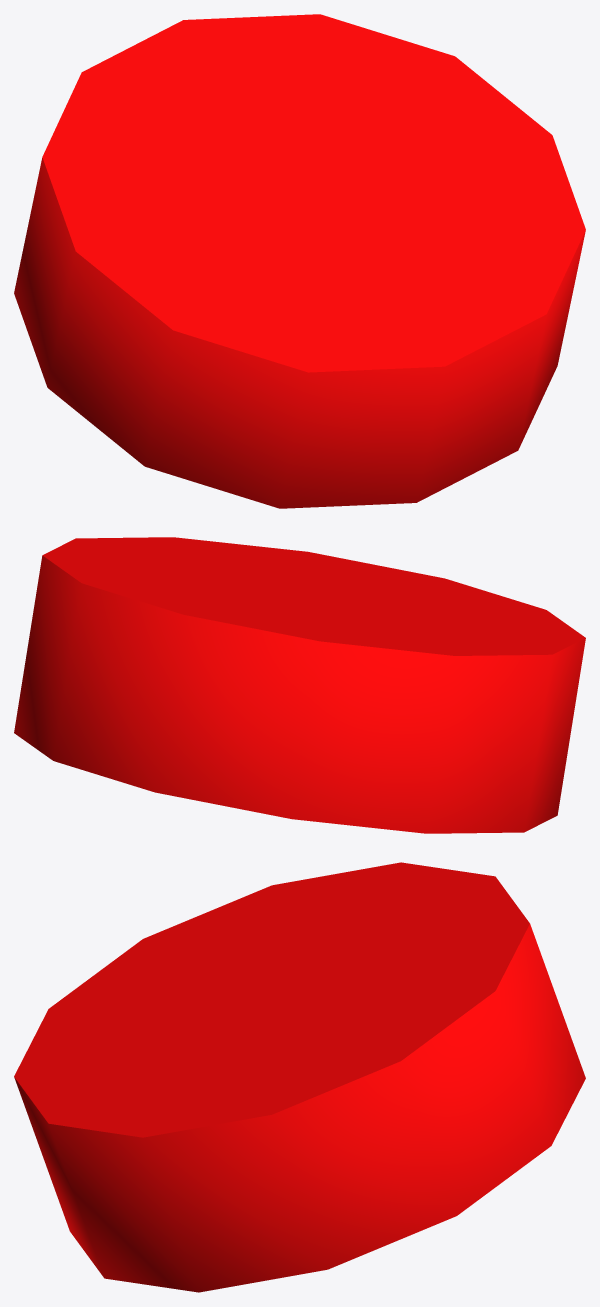
The model's file is Red_button.glb.
3 renders of one model, top to bottom at view 1: azimuth 30°, elevation 25°; view 2: azimuth 150°, elevation 25°; view 3: azimuth 270°, elevation 25°, orthographic.
Parts seen in each view (by area): view 1: Button.003; view 2: Button.003; view 3: Button.003.
Part boxes in pixels (bbox=[...]): Button.003: bbox=[14, 14, 585, 508]; Button.003: bbox=[14, 537, 585, 833]; Button.003: bbox=[14, 862, 585, 1292].
Size of the model in its own units: 0.2102 by 0.1316 by 0.2215.
1 material, 1 textured.
